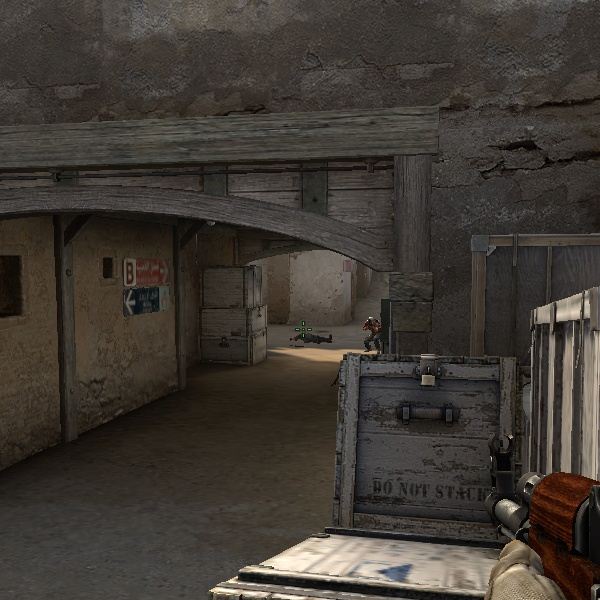t_body: (360, 311, 382, 354)
t_head: (365, 314, 378, 327)
